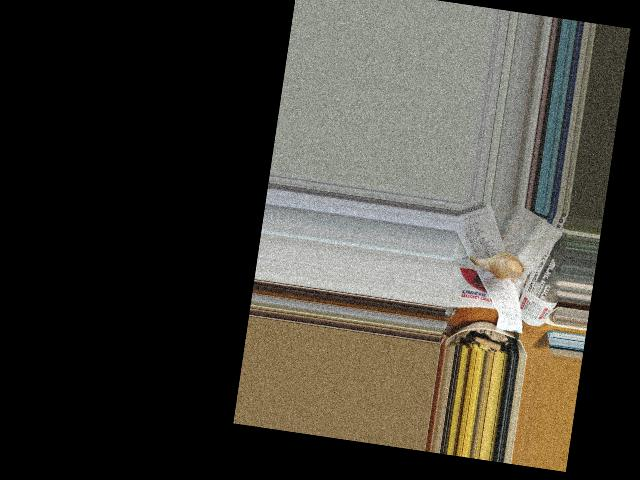onion: (486, 253, 524, 281)
